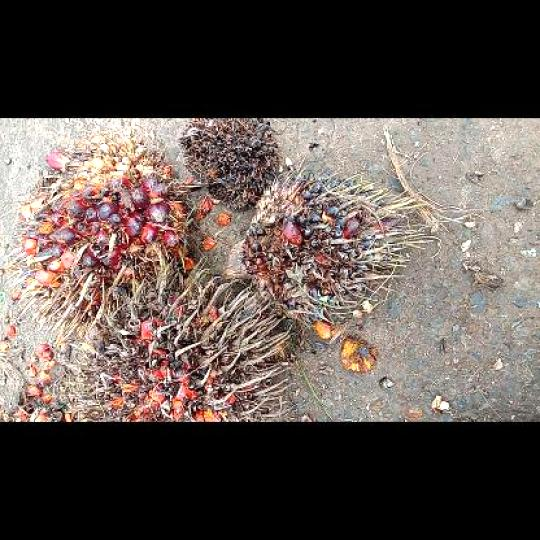masak: (12, 133, 201, 337)
terlalu masak: (54, 267, 298, 421)
